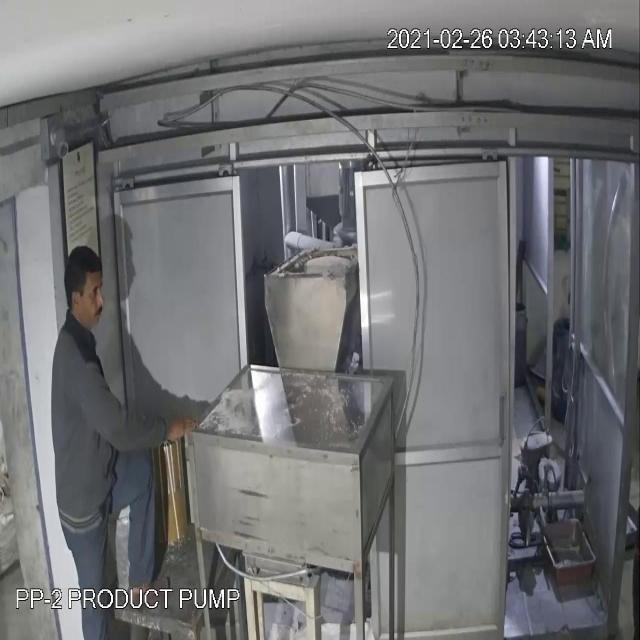no-helmet: (60, 245, 106, 327)
